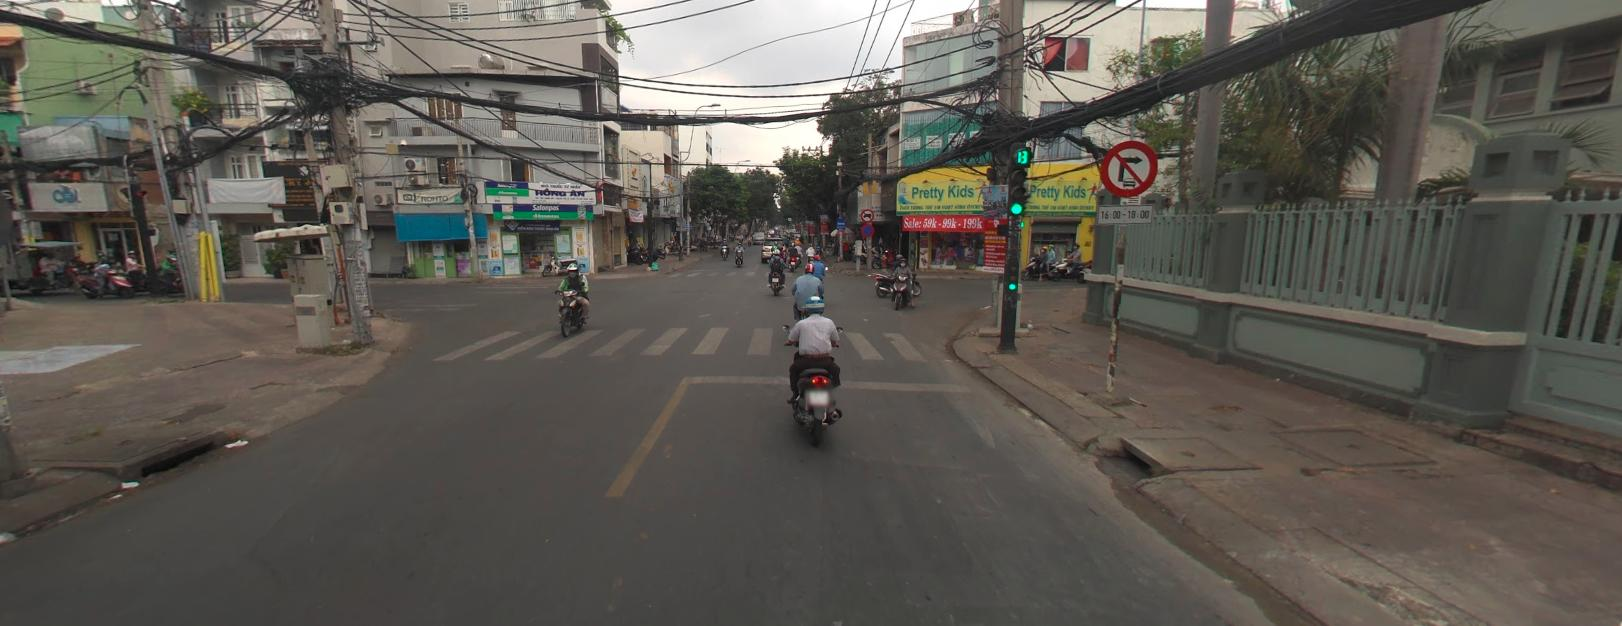Cam con lai: (858, 208, 875, 221)
Cam dung va do: (860, 222, 876, 235)
Cam re: (1097, 137, 1160, 193)
